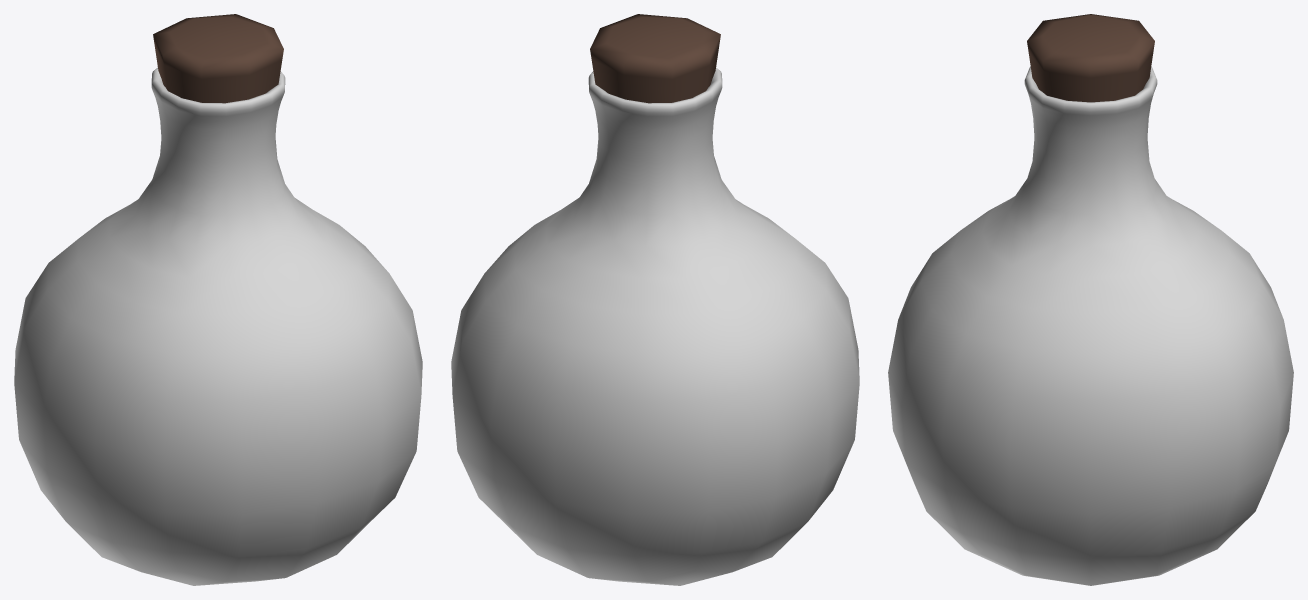
Rendered from Potion1_Empty.glb.
3 renders of one model, left to right at view 1: azimuth 30°, elevation 25°; view 2: azimuth 150°, elevation 25°; view 3: azimuth 270°, elevation 25°, orthographic.
Parts seen in each view (by area): view 1: Potion1_Empty_Cube.130; view 2: Potion1_Empty_Cube.130; view 3: Potion1_Empty_Cube.130.
Boxes of the visible parts, x1=… form: Potion1_Empty_Cube.130: x1=14, y1=14, x2=422, y2=585; Potion1_Empty_Cube.130: x1=451, y1=14, x2=859, y2=585; Potion1_Empty_Cube.130: x1=888, y1=14, x2=1293, y2=585.
Size of the model in its own units: 0.6684 by 0.9629 by 0.6684.
